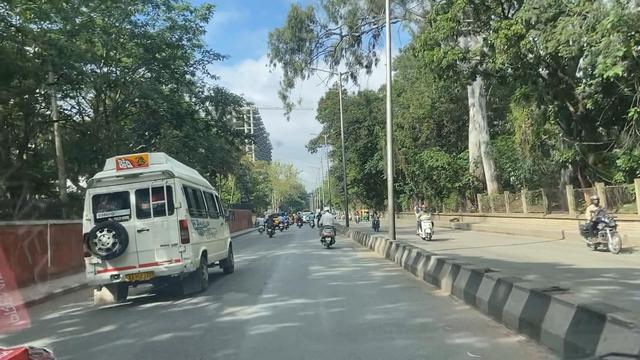HMV: (70, 159, 234, 295)
